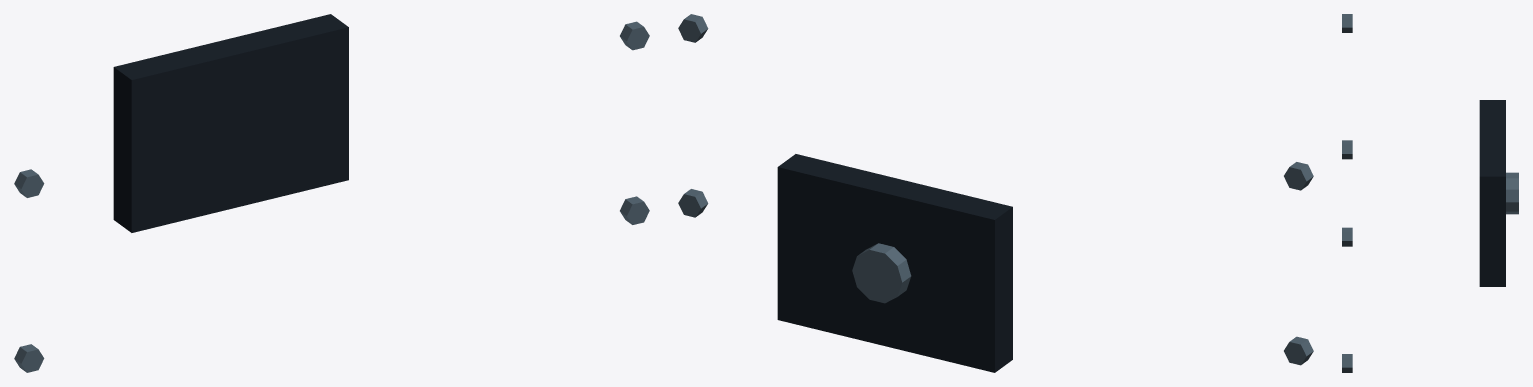
The model's file is P16-07_detail.obj.
3 views of the same model, side by side, from view 1: azimuth 30°, elevation 25°; view 2: azimuth 150°, elevation 25°; view 3: azimuth 270°, elevation 25° (orthographic). The views are drawn at different scales.
Visible parts, largest first — view 1: P16-07_STATIC_DarkPanel_DETAIL_RearCableCover, P16-07_STATIC_Steel_DETAIL_FrameBolt_L_B, P16-07_STATIC_Steel_DETAIL_FrameBolt_L_T, P16-07_STATIC_Steel_DETAIL_FrameBolt_R_B, P16-07_STATIC_Steel_DETAIL_FrameBolt_R_T; view 2: P16-07_STATIC_DarkPanel_DETAIL_RearCableCover, P16-07_STATIC_Steel_DETAIL_BackCableGland, P16-07_STATIC_Steel_DETAIL_FrameBolt_R_T, P16-07_STATIC_Steel_DETAIL_FrameBolt_R_B, P16-07_STATIC_Steel_DETAIL_FrameBolt_L_T, P16-07_STATIC_Steel_DETAIL_FrameBolt_L_B; view 3: P16-07_STATIC_DarkPanel_DETAIL_RearCableCover, P16-07_STATIC_Steel_DETAIL_BackCableGland, P16-07_STATIC_Steel_DETAIL_FrameBolt_L_B, P16-07_STATIC_Steel_DETAIL_FrameBolt_R_T, P16-07_STATIC_Steel_DETAIL_FrameBolt_L_T, P16-07_STATIC_Steel_DETAIL_FrameBolt_R_B.
Part boxes in pixels (x1,y1,x2,y2): P16-07_STATIC_DarkPanel_DETAIL_RearCableCover: (113,14,348,232); P16-07_STATIC_Steel_DETAIL_FrameBolt_L_B: (14,344,44,372); P16-07_STATIC_Steel_DETAIL_FrameBolt_L_T: (14,169,44,197); P16-07_STATIC_Steel_DETAIL_FrameBolt_R_B: (620,196,649,224); P16-07_STATIC_Steel_DETAIL_FrameBolt_R_T: (620,21,649,50); P16-07_STATIC_DarkPanel_DETAIL_RearCableCover: (777,154,1012,372); P16-07_STATIC_Steel_DETAIL_BackCableGland: (852,243,911,303); P16-07_STATIC_Steel_DETAIL_FrameBolt_R_T: (678,14,708,42); P16-07_STATIC_Steel_DETAIL_FrameBolt_R_B: (678,189,708,217); P16-07_STATIC_Steel_DETAIL_FrameBolt_L_T: (1284,162,1313,190); P16-07_STATIC_Steel_DETAIL_FrameBolt_L_B: (1284,336,1313,365); P16-07_STATIC_DarkPanel_DETAIL_RearCableCover: (1479,100,1505,286); P16-07_STATIC_Steel_DETAIL_BackCableGland: (1506,172,1518,214); P16-07_STATIC_Steel_DETAIL_FrameBolt_L_B: (1342,140,1352,159); P16-07_STATIC_Steel_DETAIL_FrameBolt_R_T: (1342,227,1352,246); P16-07_STATIC_Steel_DETAIL_FrameBolt_L_T: (1342,14,1352,32); P16-07_STATIC_Steel_DETAIL_FrameBolt_R_B: (1342,354,1352,372).
Bounding box in the file's own units: 0.301 × 0.0895 × 0.1015.
